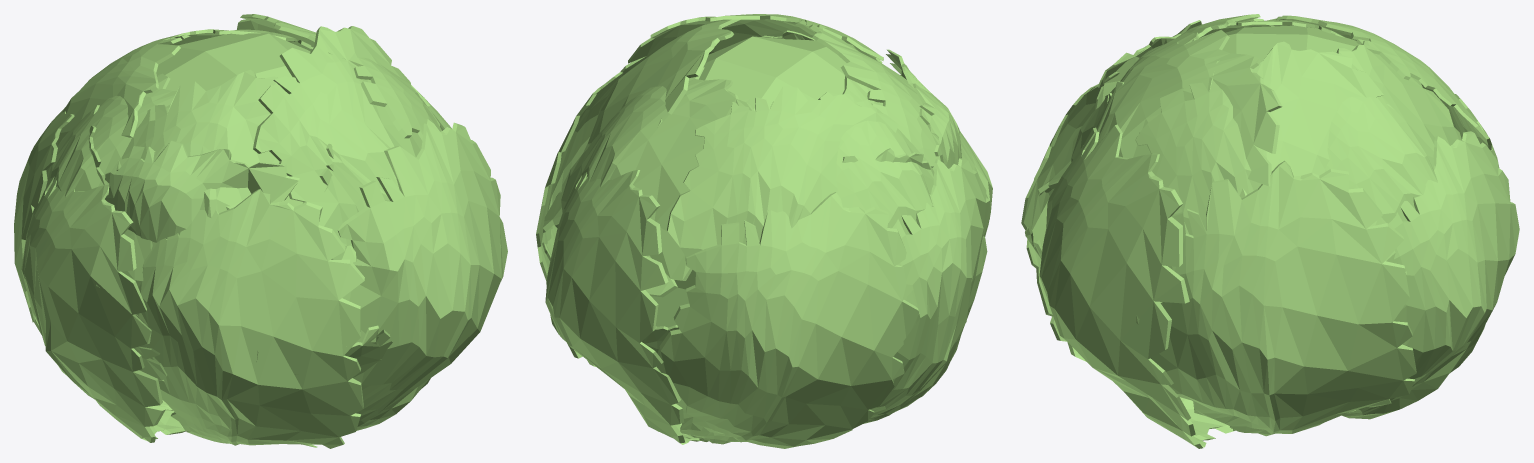
File: yang1.fbx
The picture shows the model from 3 angles, left to right: view 1: azimuth 30°, elevation 25°; view 2: azimuth 150°, elevation 25°; view 3: azimuth 270°, elevation 25°; orthographic projection.
Visible parts, largest first — view 1: Cloner_7, Sphere; view 2: Cloner_7, Sphere, Sphere_1; view 3: Cloner_7, Sphere.
Part boxes in pixels (x1,y1,x2,y2): Cloner_7: (14, 14, 507, 448); Sphere: (156, 33, 310, 90); Cloner_7: (536, 14, 992, 448); Sphere: (674, 36, 855, 289); Sphere_1: (583, 143, 688, 410); Cloner_7: (1021, 14, 1519, 448); Sphere: (1222, 25, 1358, 61).
Bounding box in the file's own units: 244 × 215 × 249.
